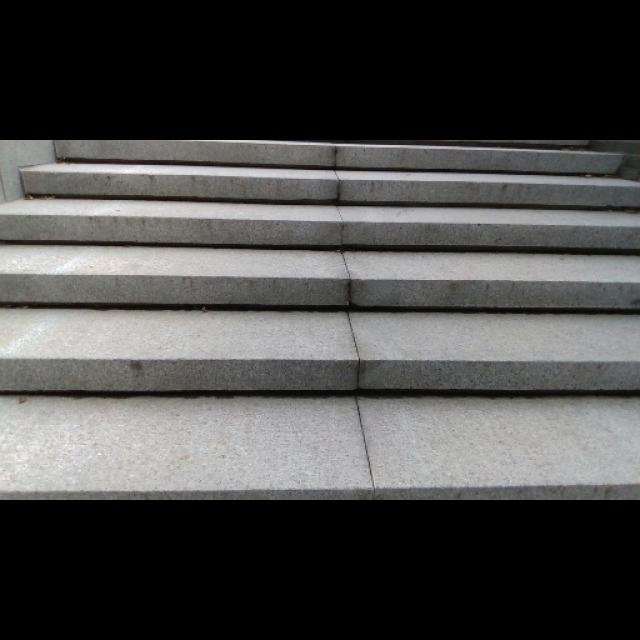Stairs: (0, 140, 639, 398)
